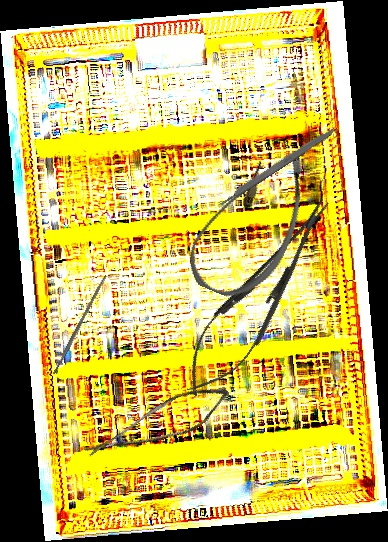Cannula: (179, 133, 321, 311)
Micro Scissor: (84, 362, 235, 489)
Needle Holder: (169, 185, 349, 410)
Scalpel Handle: (216, 123, 340, 208), (51, 274, 108, 375)
